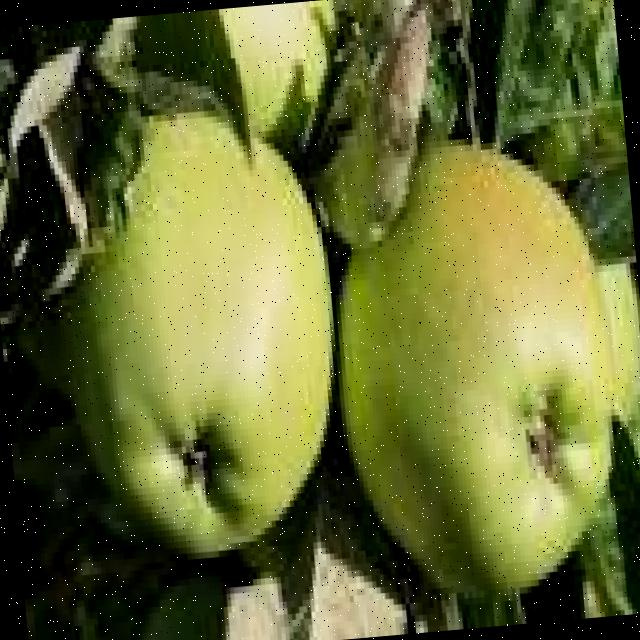Unripe: (318, 127, 628, 605), (46, 95, 351, 570)
